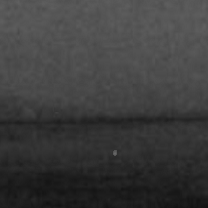Target: (112, 149, 118, 156)
